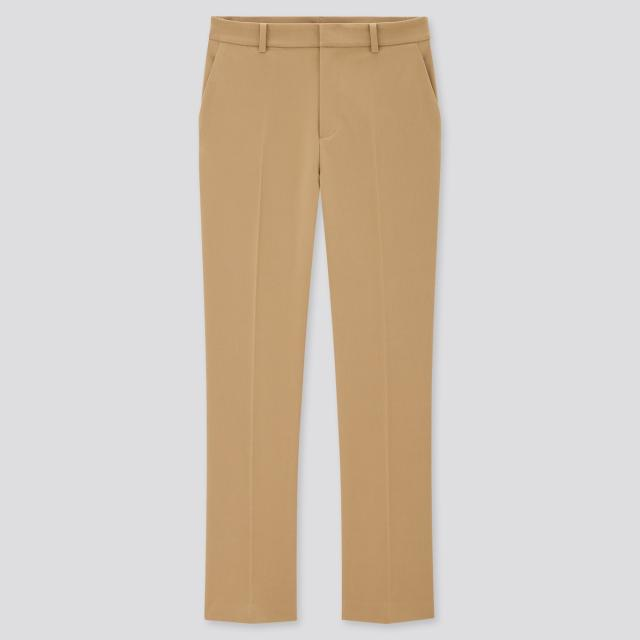long-pants: (200, 17, 444, 628)
